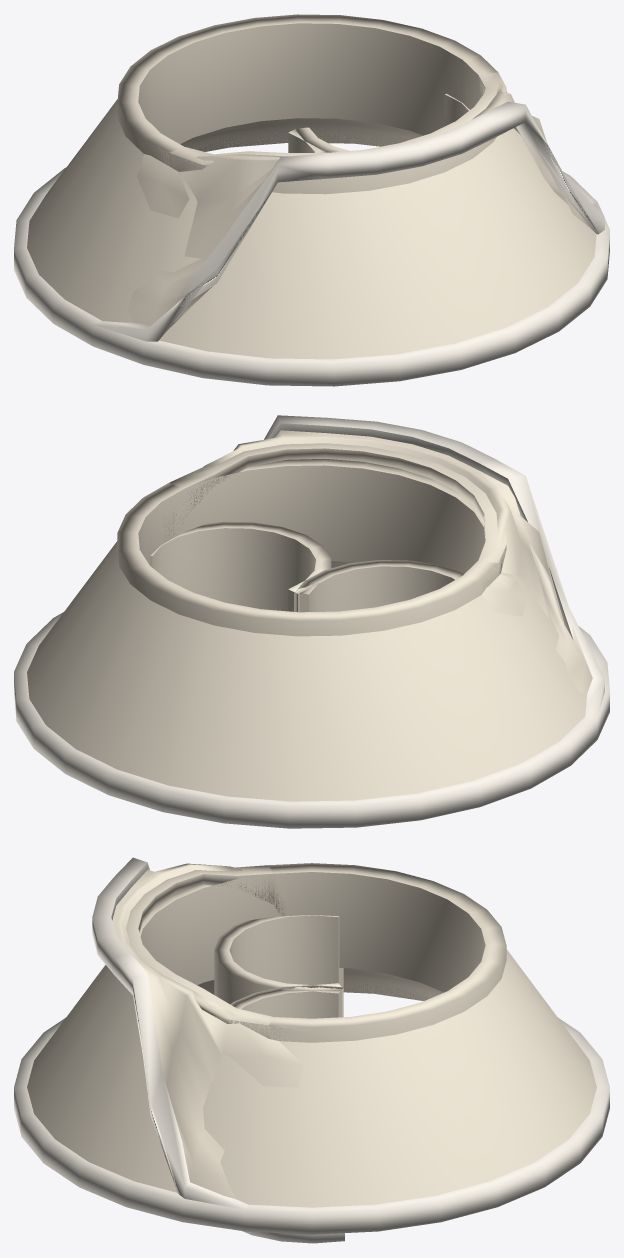
Rendered from cut_pleather_skirt.glb.
3 views of the same model, one above another, from view 1: azimuth 30°, elevation 25°; view 2: azimuth 150°, elevation 25°; view 3: azimuth 270°, elevation 25° (orthographic).
Parts seen in each view (by area): view 1: cut_pleather_skirt_Body, cut_pleather_skirt_Body_sit, cut_pleather_skirt_LegR_sit; view 2: cut_pleather_skirt_Body, cut_pleather_skirt_Body_sit, cut_pleather_skirt_LegR_sit, cut_pleather_skirt_LegL_sit; view 3: cut_pleather_skirt_Body, cut_pleather_skirt_Body_sit, cut_pleather_skirt_LegL_sit, cut_pleather_skirt_LegR_sit.
Boxes of the visible parts, box(x1,y1,x2,y2) form: cut_pleather_skirt_Body: box(14, 14, 609, 386); cut_pleather_skirt_Body_sit: box(93, 48, 604, 341); cut_pleather_skirt_LegR_sit: box(294, 93, 469, 152); cut_pleather_skirt_Body: box(14, 458, 609, 828); cut_pleather_skirt_Body_sit: box(145, 415, 604, 718); cut_pleather_skirt_LegR_sit: box(150, 521, 331, 612); cut_pleather_skirt_LegL_sit: box(294, 560, 463, 612); cut_pleather_skirt_Body: box(14, 863, 609, 1234); cut_pleather_skirt_Body_sit: box(92, 857, 443, 1209); cut_pleather_skirt_LegL_sit: box(214, 915, 343, 1017); cut_pleather_skirt_LegR_sit: box(230, 985, 344, 1243).
Bounding box in the file's own units: 0.628 × 0.2847 × 0.628.
